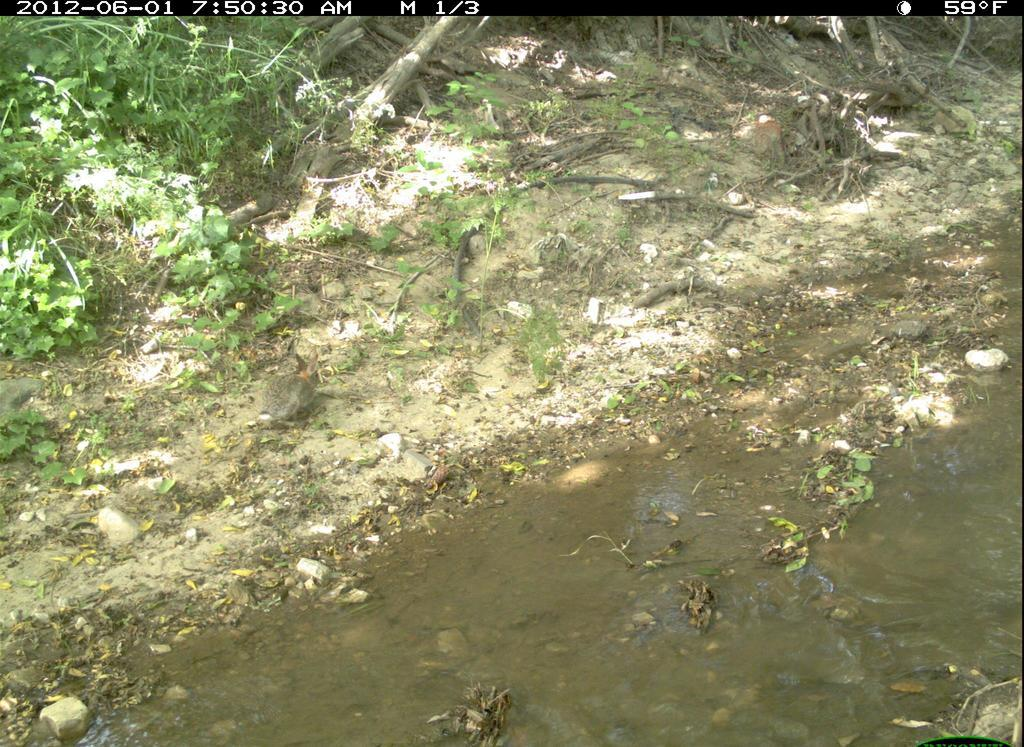rabbit: (254, 353, 335, 440)
